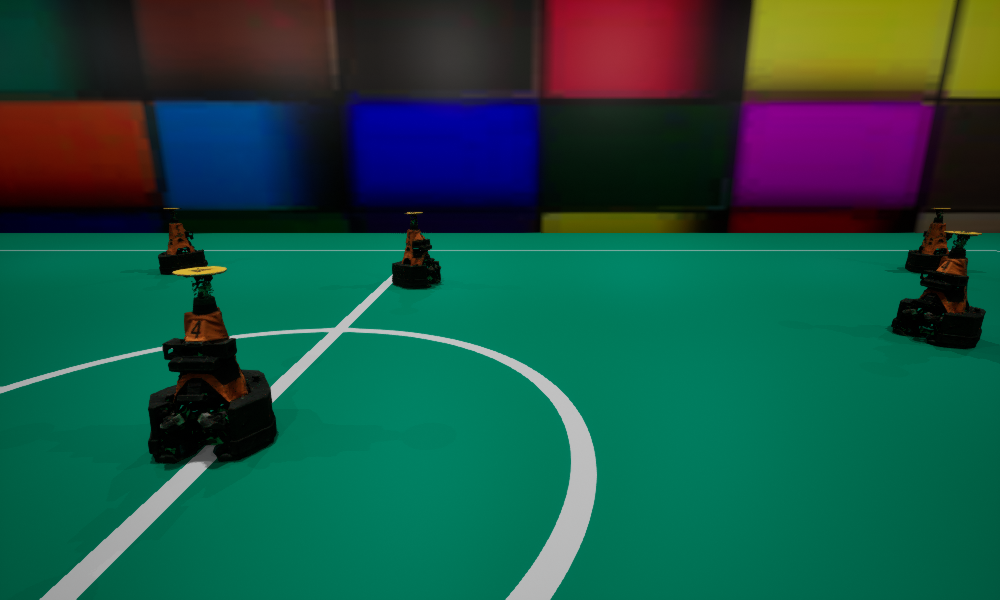0 orange robot TechUnited: (148, 266, 276, 463), (891, 231, 985, 348), (392, 212, 440, 288), (158, 208, 207, 274), (905, 208, 952, 273)
